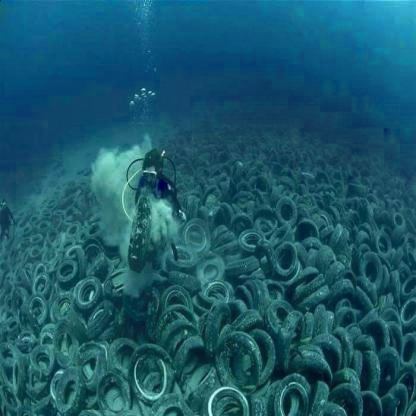tire: (187, 128, 416, 416), (1, 272, 187, 416), (20, 171, 111, 274)
